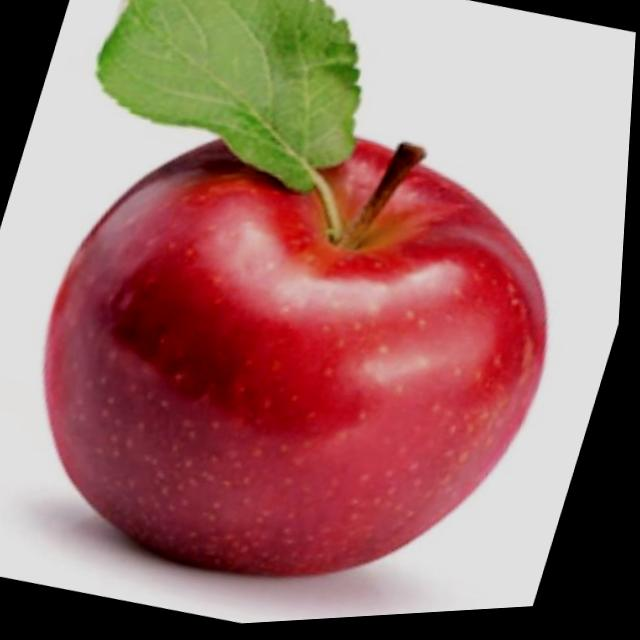Apple: (0, 63, 611, 639)
